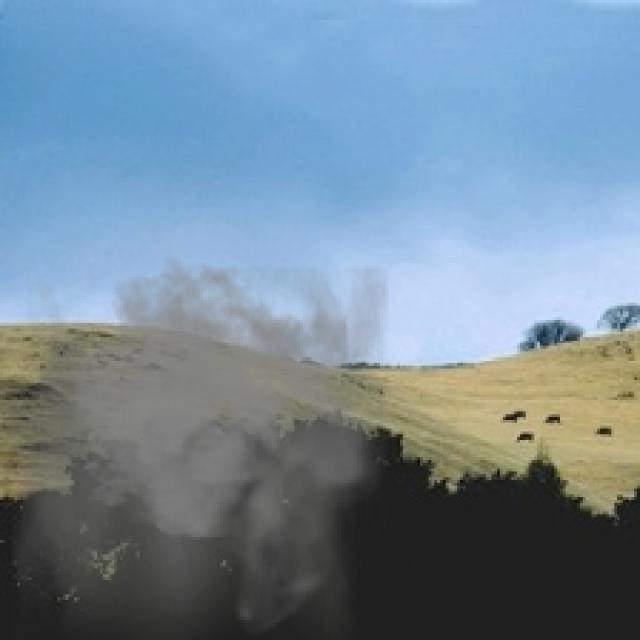Smoke: (11, 254, 392, 637)
